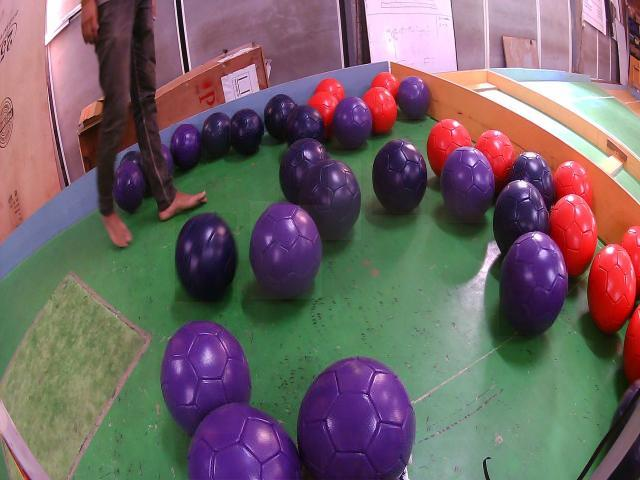jambhalya: (299, 356, 414, 479), (160, 322, 251, 434), (187, 404, 303, 480), (500, 231, 567, 336), (250, 202, 322, 299), (441, 147, 495, 223), (332, 97, 372, 148), (114, 161, 144, 211), (396, 77, 430, 119), (170, 125, 201, 171), (161, 144, 174, 175)
kaalyya: (176, 213, 237, 302), (300, 158, 361, 240), (493, 181, 550, 256), (372, 140, 428, 215), (280, 138, 328, 205), (509, 151, 554, 211), (228, 108, 263, 155), (285, 105, 325, 146), (265, 93, 297, 140), (202, 112, 231, 158), (122, 151, 147, 181)
